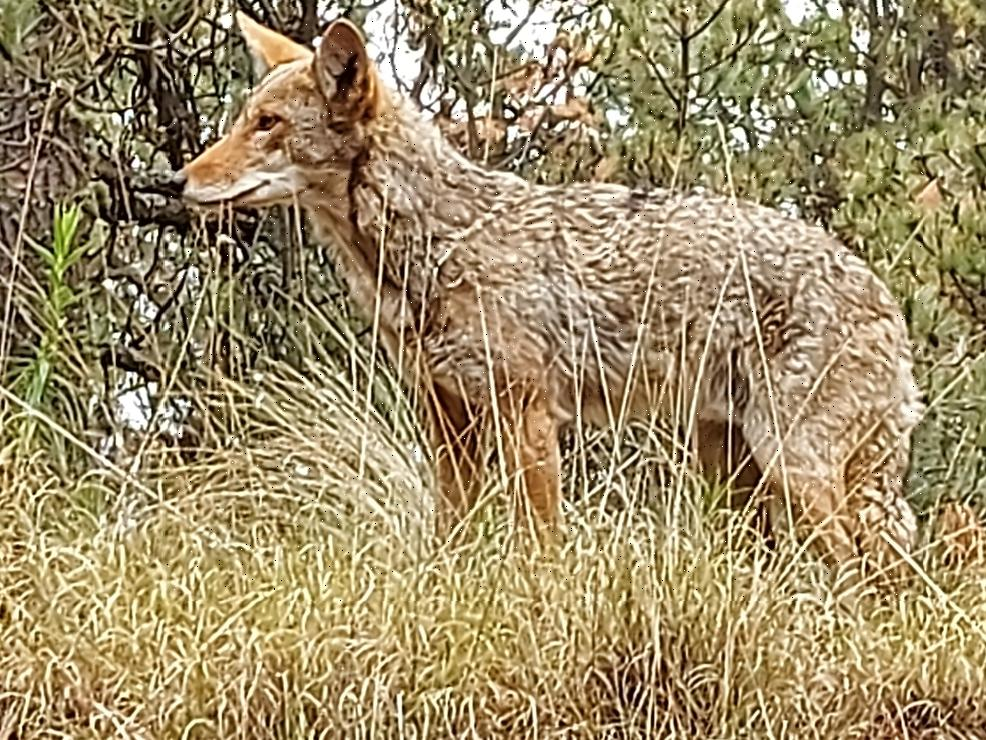Coyote: (163, 7, 922, 601)
